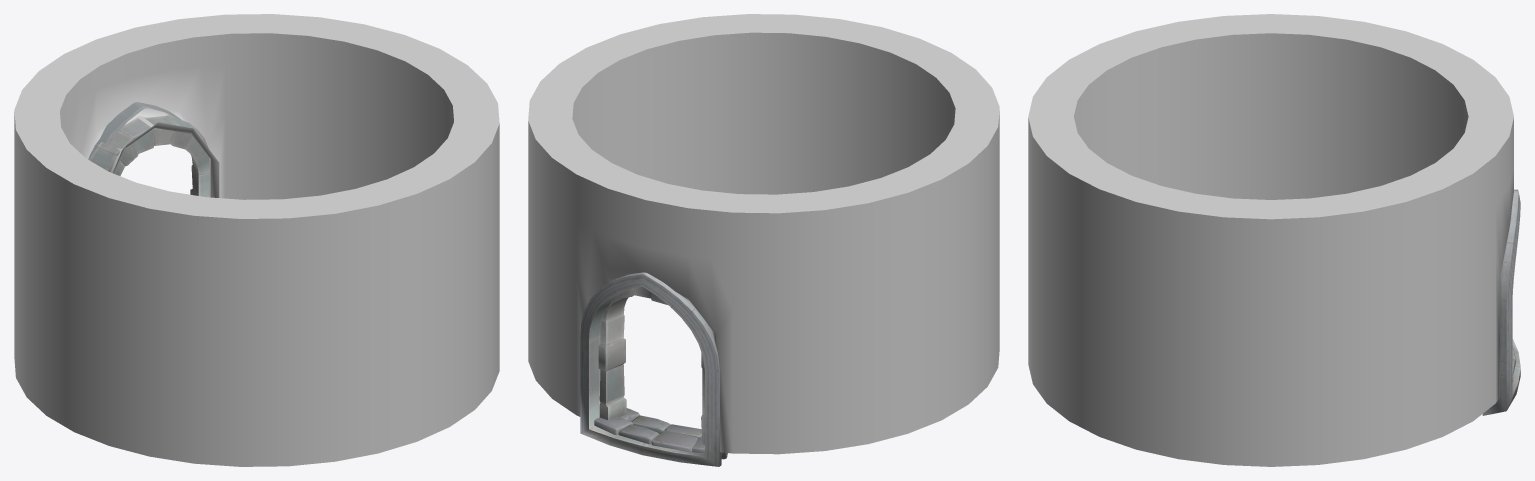
File: SM_TowerA_Mid1Door.fbx
The picture shows the model from 3 angles, left to right: view 1: azimuth 30°, elevation 25°; view 2: azimuth 150°, elevation 25°; view 3: azimuth 270°, elevation 25°; orthographic projection. The views are drawn at different scales.
Parts seen in each view (by area): view 1: SM_TowerA_Mid1Door_LOD0; view 2: SM_TowerA_Mid1Door_LOD0; view 3: SM_TowerA_Mid1Door_LOD0.
Boxes of the visible parts, left/top/right/bottom form: SM_TowerA_Mid1Door_LOD0: left=14, top=14, right=499, bottom=466; SM_TowerA_Mid1Door_LOD0: left=528, top=14, right=999, bottom=466; SM_TowerA_Mid1Door_LOD0: left=1028, top=14, right=1520, bottom=466.
Size of what is drawn, in the model's own units: 8 by 4.9 by 8.11.
